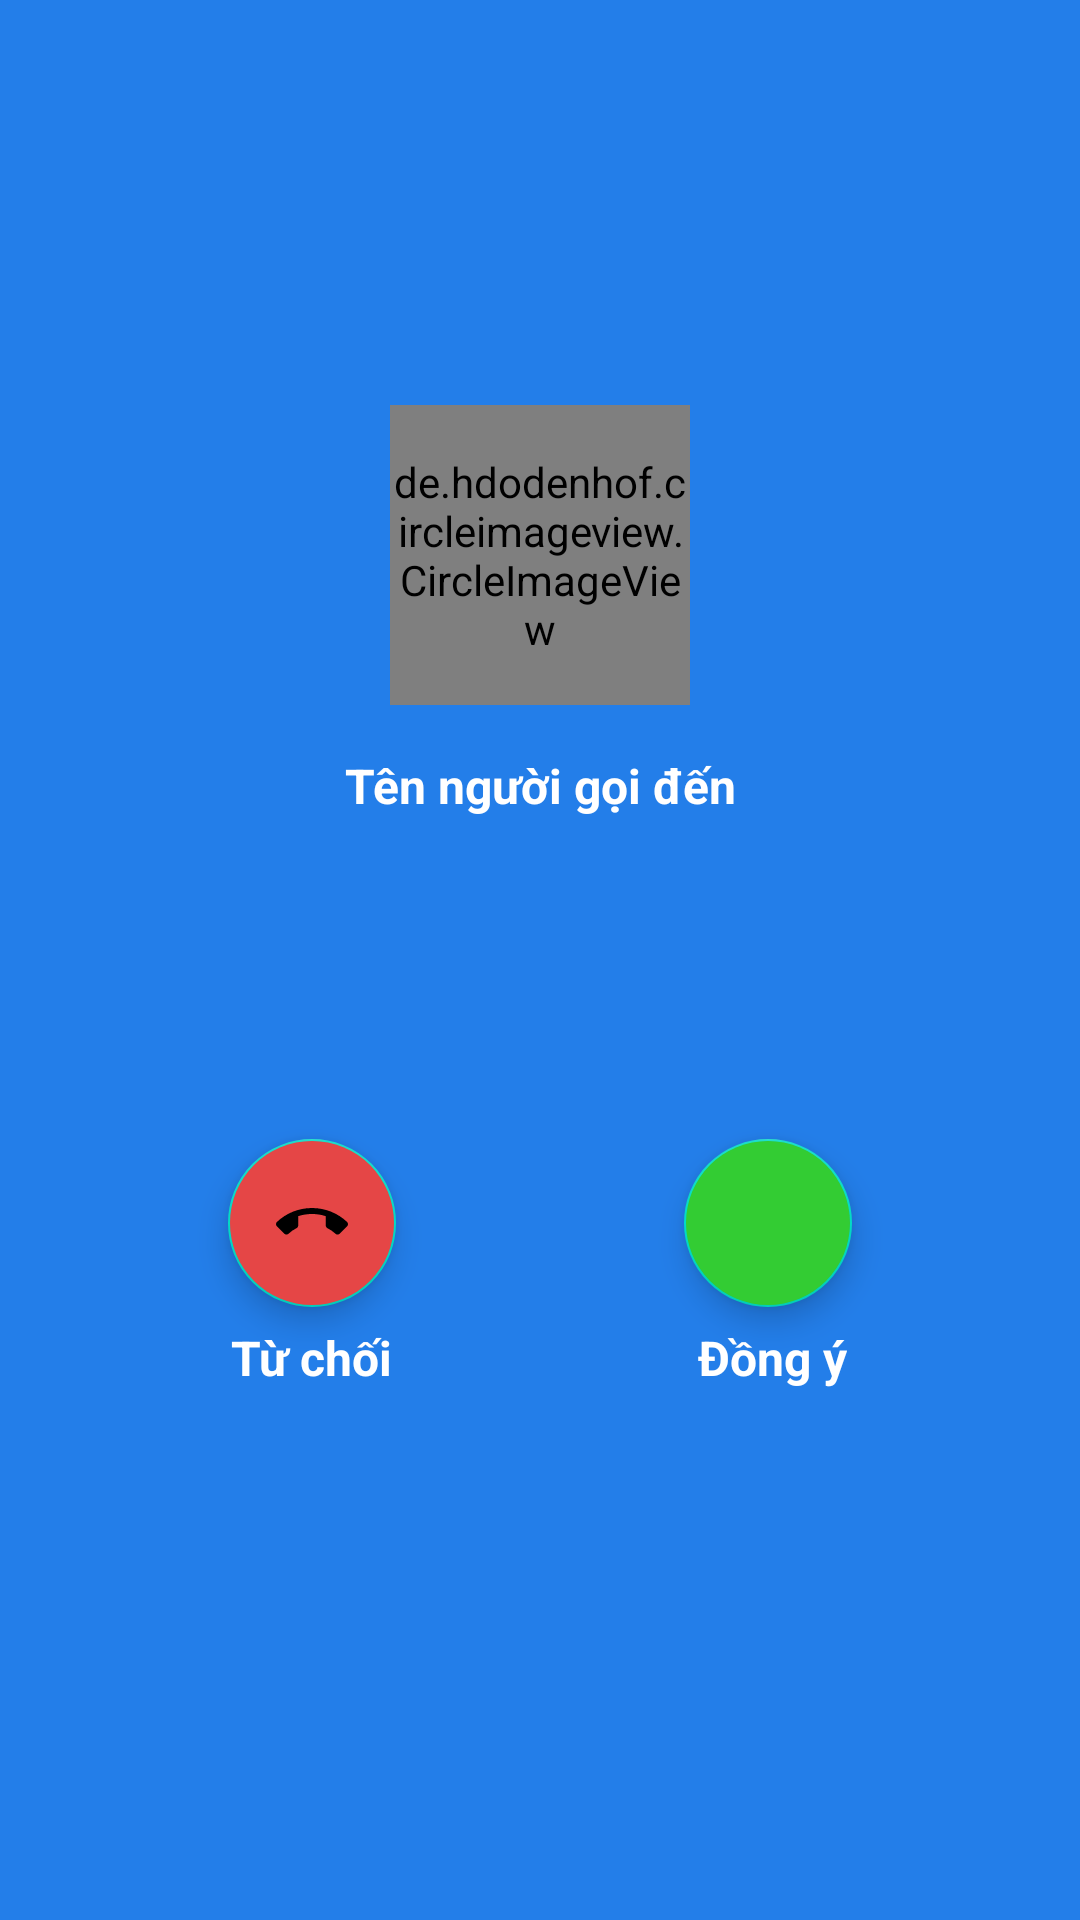

Icons on this 1080×1920 Android screen, each with its box as (x1, y1, x2, y2):
call end: (228, 1139, 396, 1307)
